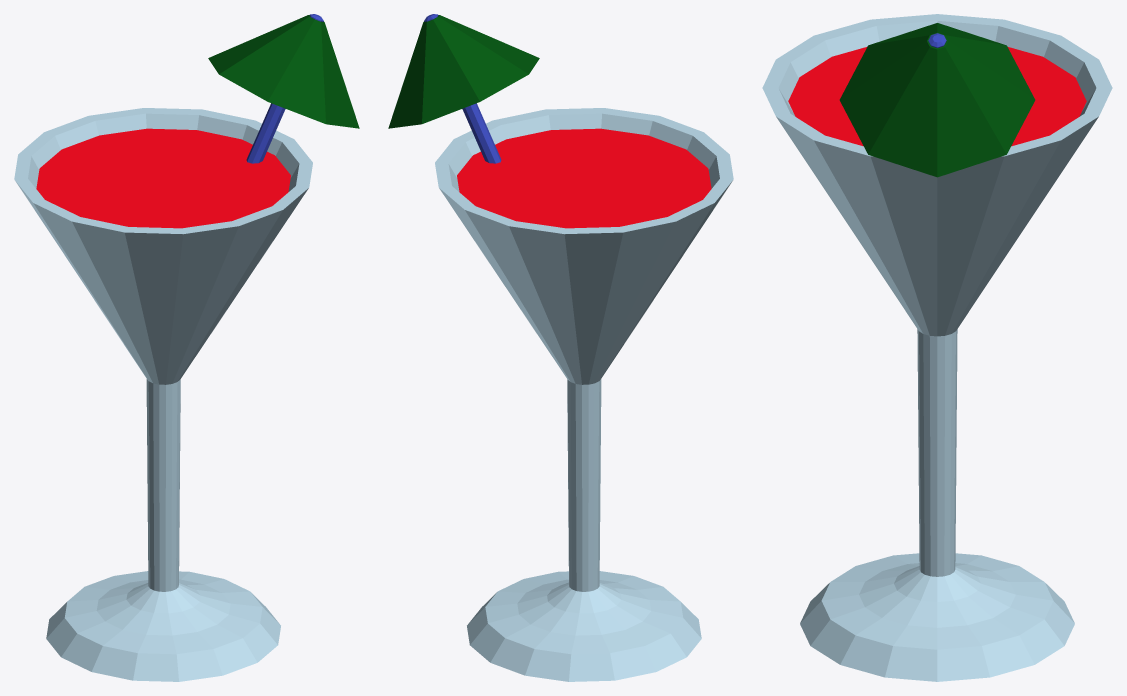
The model's file is Coquetel.fbx.
3 views of the same model, side by side, from view 1: azimuth 30°, elevation 25°; view 2: azimuth 150°, elevation 25°; view 3: azimuth 270°, elevation 25° (orthographic). The views are drawn at different scales.
Visible parts, largest first — view 1: Coquetel; view 2: Coquetel; view 3: Coquetel.
Part boxes in pixels (box(x1,y1,x2,y2)): Coquetel: box(14, 14, 359, 681); Coquetel: box(388, 14, 733, 681); Coquetel: box(762, 14, 1112, 681).
Bounding box in the file's own units: 8.39 × 14.73 × 6.93.
